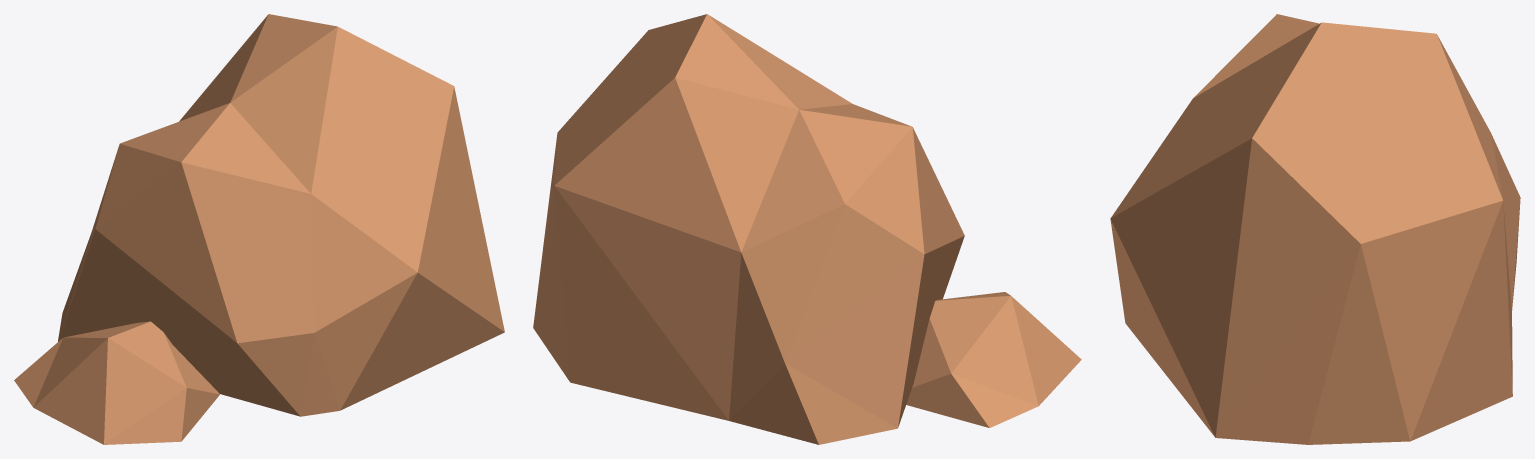
Rendered from Granite02.fbx.
The picture shows the model from 3 angles, left to right: view 1: azimuth 30°, elevation 25°; view 2: azimuth 150°, elevation 25°; view 3: azimuth 270°, elevation 25°; orthographic projection. The views are drawn at different scales.
Parts seen in each view (by area): view 1: Granite02; view 2: Granite02; view 3: Granite02.
Boxes of the visible parts, x1,y1,x2,y2 form: Granite02: [14, 14, 504, 444]; Granite02: [533, 14, 1081, 444]; Granite02: [1110, 14, 1520, 444].
Bounding box in the file's own units: 1.49 × 0.9659 × 1.03.
